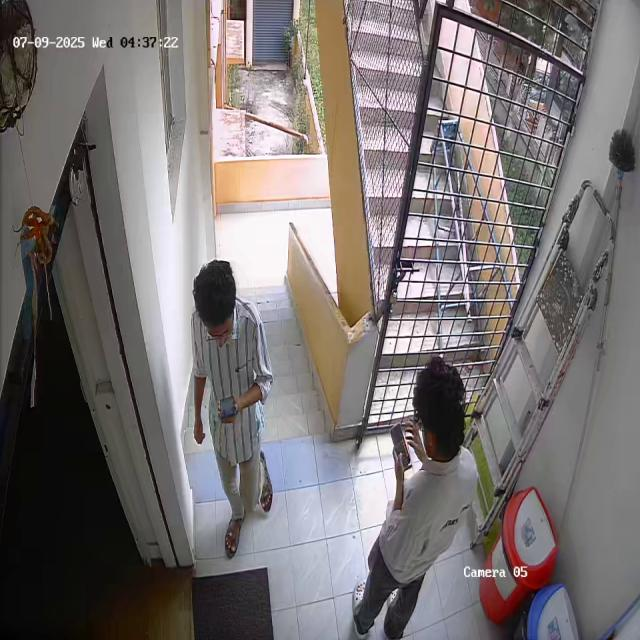person: (349, 358, 477, 638), (178, 258, 280, 557)
